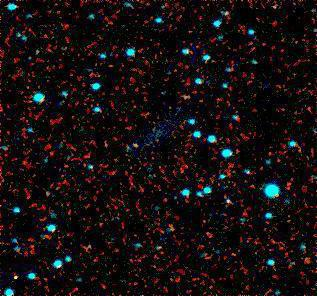star: (2, 264, 32, 294)
